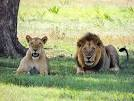lion: (73, 35, 130, 74), (13, 31, 54, 80)
